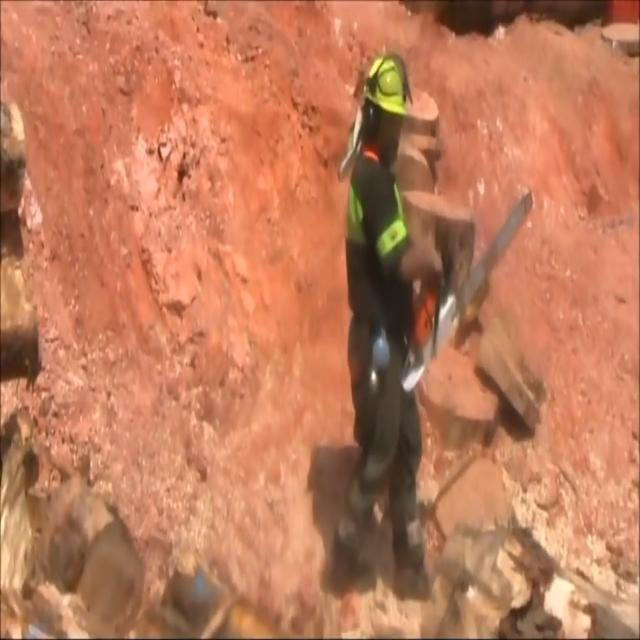Chainsaw: (363, 154, 555, 448)
